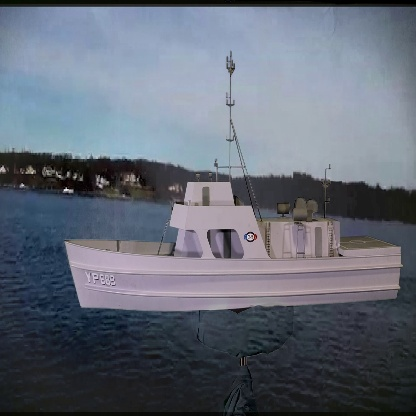YP689: (64, 50, 402, 313)
